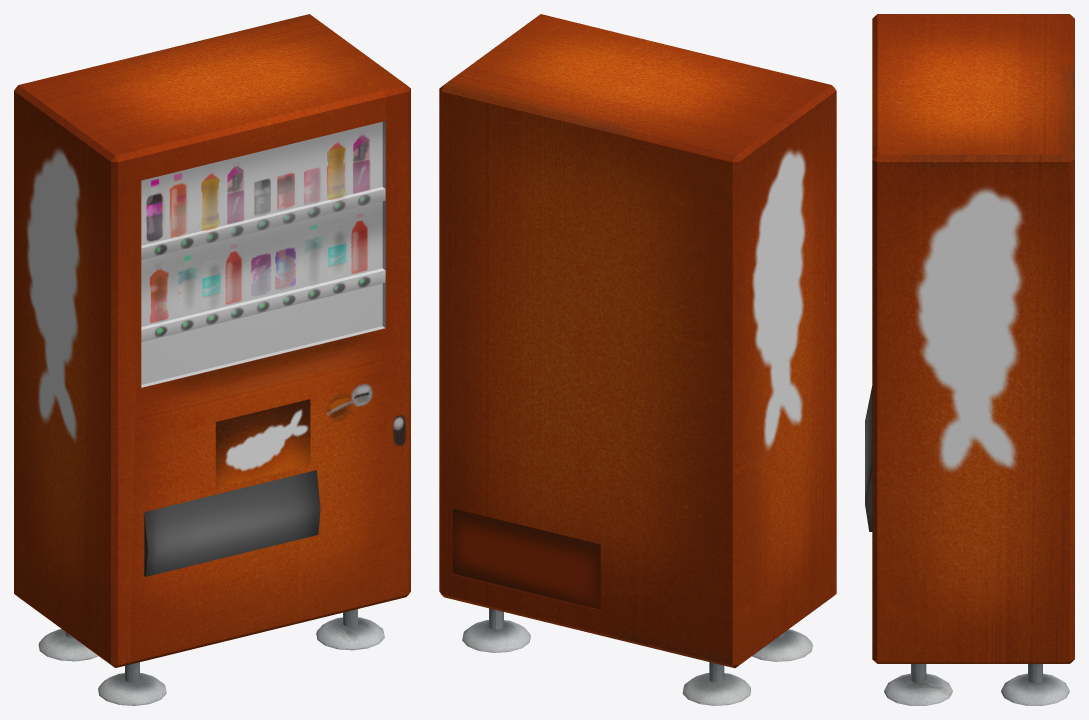
The model's file is Vending_machine_Red.fbx.
The picture shows the model from 3 angles, left to right: view 1: azimuth 30°, elevation 25°; view 2: azimuth 150°, elevation 25°; view 3: azimuth 270°, elevation 25°; orthographic projection.
Parts seen in each view (by area): view 1: pCube10, pCylinder13; view 2: pCube10, pCylinder13; view 3: pCube10, pCylinder13.
Boxes of the visible parts, x1=… form: pCube10: x1=14, y1=14, x2=410, y2=667; pCylinder13: x1=38, y1=609, x2=384, y2=705; pCube10: x1=439, y1=14, x2=836, y2=668; pCylinder13: x1=462, y1=608, x2=812, y2=705; pCube10: x1=865, y1=14, x2=1074, y2=663; pCylinder13: x1=884, y1=664, x2=1069, y2=705.
Size of the model in its own units: 19.38 by 34.39 by 11.82.
Materials: 1 (1 with a texture image).
